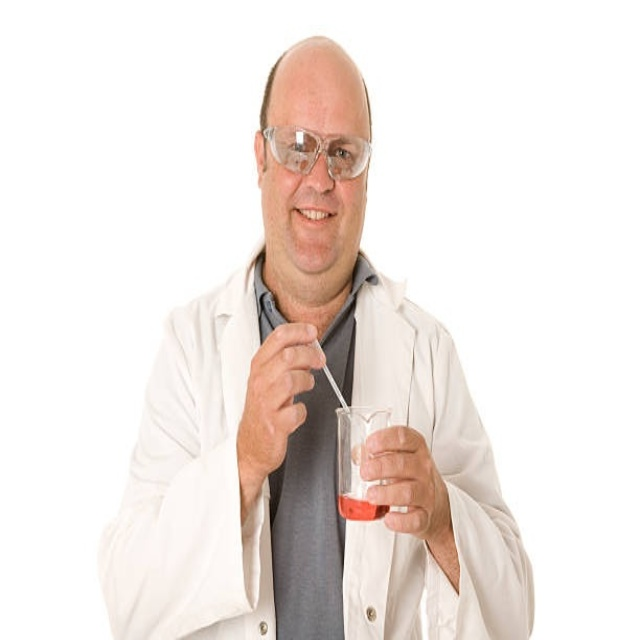Gafas: (262, 126, 373, 180)
Sin_guantes: (243, 320, 327, 466), (357, 423, 445, 541)
Sin_mascara: (285, 196, 343, 257)
